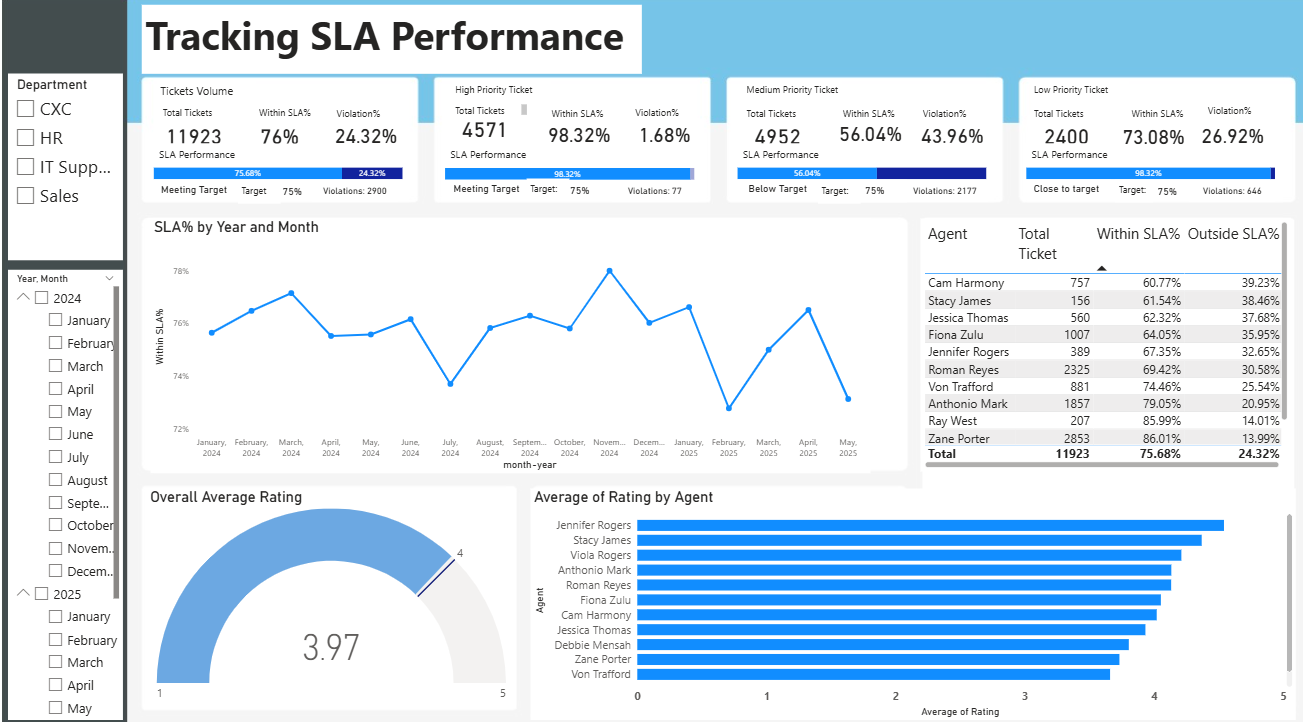

The page's visual inventory and layout, read from the dashboard file:
{"tool":"powerbi","page":{"name":"Page 1","canvas":[1920,1080],"ordinal":0},"visuals":[{"type":"card","fields":{"Values":["Measure.Total Ticket"]},"box":[235,178.3,111.7,58.3],"z":0},{"type":"card","fields":{"Values":["Measure.within SLA%"]},"box":[348.3,178.3,135,58.3],"z":1000},{"type":"hundredPercentStackedBarChart","fields":{"Y":["Measure.Within SLA","Measure.Outside SLA"]},"box":[228.3,220,370,80],"z":2000},{"type":"textbox","box":[235,220,140,31.7],"z":3000},{"type":"textbox","box":[240,161.7,140,33.3],"z":4000},{"type":"textbox","box":[380,161.7,103.3,33.3],"z":5000},{"type":"textbox","box":[492,162,94,34],"z":6000},{"type":"textbox","box":[236.7,128.3,143.3,33.3],"z":7000},{"type":"textbox","box":[493.3,273.3,76.7,31.7],"z":8000},{"type":"card","fields":{"Values":["Measure.SLA Status"]},"box":[228.3,275,126.7,26.7],"z":9000},{"type":"card","fields":{"Values":["Measure.Total Ticket"]},"box":[656.9,170.1,110.4,57.9],"z":10000},{"type":"hundredPercentStackedBarChart","fields":{"Y":["Measure.within SLA%","Measure.Outside SLA%","Measure.within SLA%"]},"box":[649.7,220.8,371,81.4],"z":11000},{"type":"textbox","box":[656.9,220.8,139.3,30.8],"z":12000},{"type":"textbox","box":[664.1,159.3,114,25.3],"z":13000},{"type":"textbox","box":[803.3,162.3,103.3,33.3],"z":14000},{"type":"textbox","box":[915,162.3,95,33.3],"z":15000},{"type":"textbox","box":[663.3,128.3,143.3,33.3],"z":16000},{"type":"card","fields":{"Values":["Measure.SLA Status"]},"box":[651.7,273.3,126.7,26.7],"z":17000},{"type":"card","fields":{"Values":["Measure.Violations"]},"box":[461.7,275,125,30],"z":18000},{"type":"card","fields":{"Values":["Measure.Violations"]},"box":[1315,275,125,30],"z":19000},{"type":"card","fields":{"Values":["Measure.Total Ticket"]},"box":[1080.3,179.7,111.7,58.3],"z":20000},{"type":"hundredPercentStackedBarChart","fields":{"Y":["Measure.within SLA%","Measure.Outside SLA%"]},"box":[1073.7,221.3,370,80],"z":21000},{"type":"textbox","box":[1080.3,221.3,140,31.7],"z":22000},{"type":"textbox","box":[1085.3,163,140,33.3],"z":23000},{"type":"textbox","box":[1225.3,163,103.3,33.3],"z":24000},{"type":"textbox","box":[1337,163,95,33.3],"z":25000},{"type":"textbox","box":[1085.3,129,143.3,33.3],"z":26000},{"type":"card","fields":{"Values":["Measure.SLA Status"]},"box":[1073.7,274,126.7,26.7],"z":27000},{"type":"card","fields":{"Values":["Measure.Total Ticket"]},"box":[1497.7,179.7,111.7,58.3],"z":28000},{"type":"hundredPercentStackedBarChart","fields":{"Y":["Measure.within SLA%","Measure.Outside SLA%"]},"box":[1491,221.3,370,80],"z":29000},{"type":"textbox","box":[1497.7,221.3,140,31.7],"z":30000},{"type":"textbox","box":[1502.7,163,140,33.3],"z":31000},{"type":"textbox","box":[1642.7,163,103.3,33.3],"z":32000},{"type":"textbox","box":[1754.3,163,95,33.3],"z":33000},{"type":"textbox","box":[1502.7,129,143.3,33.3],"z":34000},{"type":"card","fields":{"Values":["Measure.SLA Status"]},"box":[1491,274,126.7,26.7],"z":35000},{"type":"card","fields":{"Values":["Measure.Violations"]},"box":[895,275,125,30],"z":36000},{"type":"card","fields":{"Values":["Measure.Violations"]},"box":[1315,275,125,30],"z":37000},{"type":"card","fields":{"Values":["Measure.Violations"]},"box":[1731.7,275,125,30],"z":38000},{"type":"slicer","fields":{"Values":["SLA.Department"]},"box":[22,120,166,270],"z":39000},{"type":"slicer","fields":{"Values":["Calender.month-year.Variation.Date Hierarchy.Year","Calender.month-year.Variation.Date Hierarchy.Month"]},"box":[22,404,166,652],"z":40000},{"type":"card","fields":{"Values":["Measure.Outside SLA%"]},"box":[488.3,188.3,103.3,40],"z":41000},{"type":"card","fields":{"Values":["Measure.within SLA%"]},"box":[796.7,185,105,45],"z":42000},{"type":"card","fields":{"Values":["Measure.Outside SLA%"]},"box":[915,185,113.3,45],"z":43000},{"type":"card","fields":{"Values":["Measure.within SLA%"]},"box":[1213.3,185,115,41.7],"z":44000},{"type":"card","fields":{"Values":["Measure.Outside SLA%"]},"box":[1328.3,191.7,121.7,33.3],"z":45000},{"type":"card","fields":{"Values":["Measure.within SLA%"]},"box":[1628.3,188.3,103.3,43.3],"z":46000},{"type":"card","fields":{"Values":["Measure.Outside SLA%"]},"box":[1738.3,188.3,111.7,40],"z":47000},{"type":"tableEx","fields":{"Values":["SLA.Agent ","Measure.Total Ticket","Measure.within SLA%","Measure.Outside SLA%"]},"box":[1342,330,536,366],"z":48000},{"type":"gauge","title":"Overall Average Rating ","fields":{"Y":["Avg(SLA.Rating)"],"MinValue":["Measure.Minimum Rating"],"MaxValue":["Measure.Maximum Rating"],"TargetValue":["Measure.Target Rating"]},"box":[223.3,720,535,318.3],"z":49000},{"type":"clusteredBarChart","fields":{"Category":["SLA.Agent "],"Y":["Avg(SLA.Rating)"]},"box":[778,720,1108,336],"z":50000},{"type":"lineChart","title":"SLA%  by Year and  Month","fields":{"Y":["Measure.within SLA%"],"Category":["Calender.month-year"]},"box":[228,329.4,1042.4,369.2],"z":51000},{"type":"textbox","box":[924.3,161.4,87.1,32.9],"z":52000},{"type":"textbox","box":[1341.4,162.9,91.4,31.4],"z":53000},{"type":"textbox","box":[1754.3,160,95.7,34.3],"z":54000},{"type":"textbox","box":[216,20,724,100],"z":55000},{"type":"card","fields":{"Values":["Measure.SLA Target"]},"box":[412.6,276.9,41.6,25.3],"z":56000},{"type":"textbox","box":[354.7,275.1,61.5,32.6],"z":57000},{"type":"card","fields":{"Values":["Measure.SLA Target"]},"box":[1681.1,273.1,42.7,25.6],"z":58000},{"type":"card","fields":{"Values":["Measure.SLA Target"]},"box":[1230.6,273.3,92.3,32.6],"z":59000},{"type":"card","fields":{"Values":["Measure.SLA Target"]},"box":[803.5,275.1,92.3,27.1],"z":60000},{"type":"textbox","box":[1194.4,275.1,61.5,32.6],"z":61000},{"type":"textbox","box":[772.7,271.4,61.5,32.6],"z":62000},{"type":"textbox","box":[1625.1,273.3,54.3,32.6],"z":63000}]}

Visuals, with their boxes in screenshot pixels (x1, y1, x2, y2):
card - Measure.Total Ticket: (x1=151, y1=81, x2=227, y2=121)
card - Measure.within SLA%: (x1=228, y1=81, x2=321, y2=121)
hundredPercentStackedBarChart - Measure.Within SLA x Measure.Outside SLA: (x1=146, y1=110, x2=399, y2=165)
textbox: (x1=151, y1=110, x2=246, y2=132)
textbox: (x1=154, y1=70, x2=250, y2=93)
textbox: (x1=250, y1=70, x2=321, y2=93)
textbox: (x1=326, y1=70, x2=391, y2=93)
textbox: (x1=152, y1=47, x2=250, y2=70)
textbox: (x1=327, y1=146, x2=380, y2=168)
card - Measure.SLA Status: (x1=146, y1=147, x2=233, y2=166)
card - Measure.Total Ticket: (x1=439, y1=76, x2=515, y2=115)
hundredPercentStackedBarChart - Measure.within SLA% x Measure.Outside SLA%: (x1=434, y1=110, x2=688, y2=166)
textbox: (x1=439, y1=110, x2=535, y2=131)
textbox: (x1=444, y1=68, x2=522, y2=86)
textbox: (x1=539, y1=70, x2=610, y2=93)
textbox: (x1=616, y1=70, x2=681, y2=93)
textbox: (x1=444, y1=47, x2=542, y2=70)
card - Measure.SLA Status: (x1=436, y1=146, x2=522, y2=165)
card - Measure.Violations: (x1=306, y1=147, x2=391, y2=168)
card - Measure.Violations: (x1=890, y1=147, x2=975, y2=168)
card - Measure.Total Ticket: (x1=729, y1=82, x2=805, y2=122)
hundredPercentStackedBarChart - Measure.within SLA% x Measure.Outside SLA%: (x1=724, y1=111, x2=978, y2=165)
textbox: (x1=729, y1=111, x2=825, y2=132)
textbox: (x1=732, y1=71, x2=828, y2=94)
textbox: (x1=828, y1=71, x2=899, y2=94)
textbox: (x1=905, y1=71, x2=970, y2=94)
textbox: (x1=732, y1=48, x2=830, y2=70)
card - Measure.SLA Status: (x1=724, y1=147, x2=811, y2=165)
card - Measure.Total Ticket: (x1=1015, y1=82, x2=1091, y2=122)
hundredPercentStackedBarChart - Measure.within SLA% x Measure.Outside SLA%: (x1=1010, y1=111, x2=1263, y2=165)
textbox: (x1=1015, y1=111, x2=1110, y2=132)
textbox: (x1=1018, y1=71, x2=1114, y2=94)
textbox: (x1=1114, y1=71, x2=1184, y2=94)
textbox: (x1=1190, y1=71, x2=1255, y2=94)
textbox: (x1=1018, y1=48, x2=1116, y2=70)
card - Measure.SLA Status: (x1=1010, y1=147, x2=1097, y2=165)
card - Measure.Violations: (x1=602, y1=147, x2=688, y2=168)
card - Measure.Violations: (x1=890, y1=147, x2=975, y2=168)
card - Measure.Violations: (x1=1175, y1=147, x2=1260, y2=168)
slicer - SLA.Department: (x1=5, y1=41, x2=118, y2=226)
slicer - Calender.month-year.Variation.Date Hierarchy.Year x Calender.month-year.Variation.Date Hierarchy.Month: (x1=5, y1=236, x2=118, y2=682)
card - Measure.Outside SLA%: (x1=324, y1=88, x2=395, y2=115)
card - Measure.within SLA%: (x1=535, y1=86, x2=607, y2=117)
card - Measure.Outside SLA%: (x1=616, y1=86, x2=693, y2=117)
card - Measure.within SLA%: (x1=820, y1=86, x2=899, y2=114)
card - Measure.Outside SLA%: (x1=899, y1=90, x2=982, y2=113)
card - Measure.within SLA%: (x1=1104, y1=88, x2=1175, y2=118)
card - Measure.Outside SLA%: (x1=1179, y1=88, x2=1256, y2=115)
tableEx - SLA.Agent  x Measure.Total Ticket: (x1=908, y1=185, x2=1275, y2=436)
"Overall Average Rating " gauge: (x1=143, y1=452, x2=509, y2=670)
clusteredBarChart - SLA.Agent  x Avg(SLA.Rating): (x1=522, y1=452, x2=1280, y2=682)
"SLA%  by Year and  Month" lineChart: (x1=146, y1=185, x2=859, y2=437)
textbox: (x1=622, y1=70, x2=682, y2=92)
textbox: (x1=908, y1=71, x2=970, y2=92)
textbox: (x1=1190, y1=69, x2=1256, y2=92)
textbox: (x1=138, y1=0, x2=633, y2=41)
card - Measure.SLA Target: (x1=272, y1=149, x2=301, y2=166)
textbox: (x1=233, y1=148, x2=275, y2=170)
card - Measure.SLA Target: (x1=1140, y1=146, x2=1169, y2=164)
card - Measure.SLA Target: (x1=832, y1=146, x2=895, y2=169)
card - Measure.SLA Target: (x1=540, y1=148, x2=603, y2=166)
textbox: (x1=807, y1=148, x2=849, y2=170)
textbox: (x1=519, y1=145, x2=561, y2=167)
textbox: (x1=1102, y1=146, x2=1139, y2=169)
